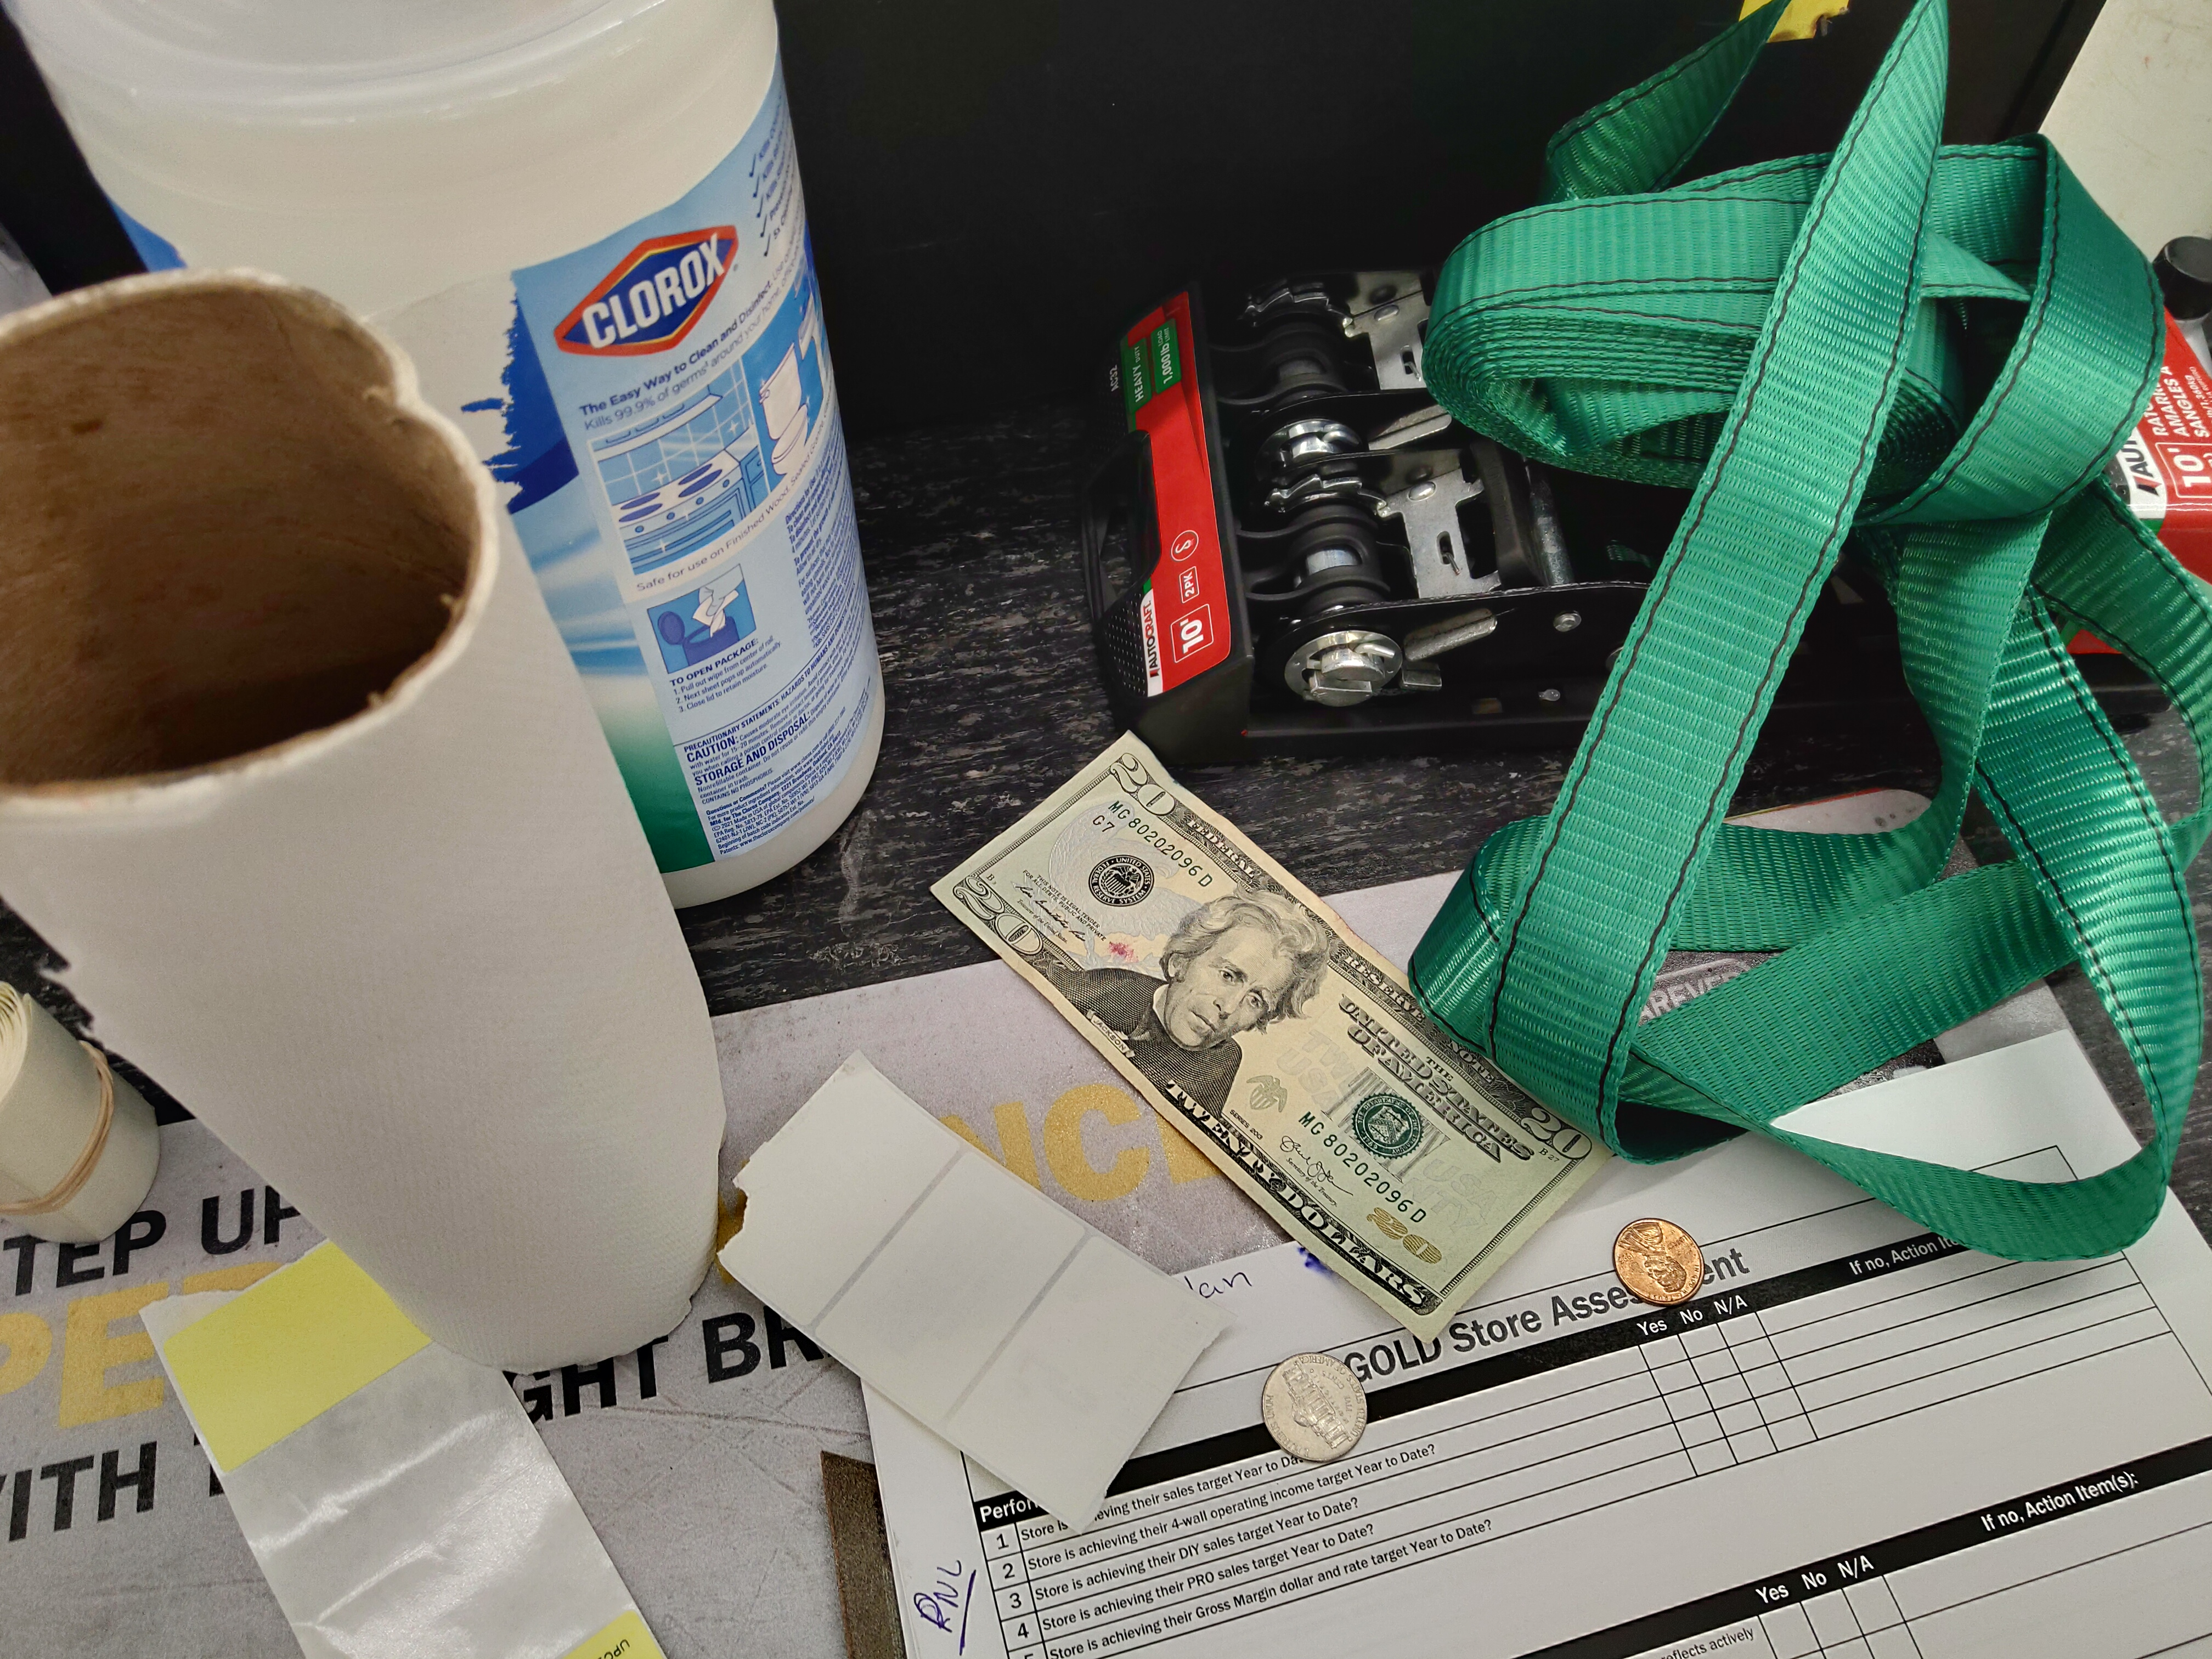Nickel: (1259, 1351, 1374, 1464)
Penny: (1609, 1216, 1707, 1309)
TwentyBill: (928, 725, 1616, 1344)
